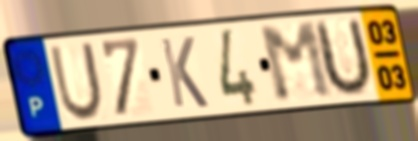4: (217, 26, 261, 111)
7: (100, 35, 144, 121)
K: (157, 34, 211, 111)
M: (256, 19, 337, 107)
U: (313, 14, 374, 101), (47, 40, 106, 124)
